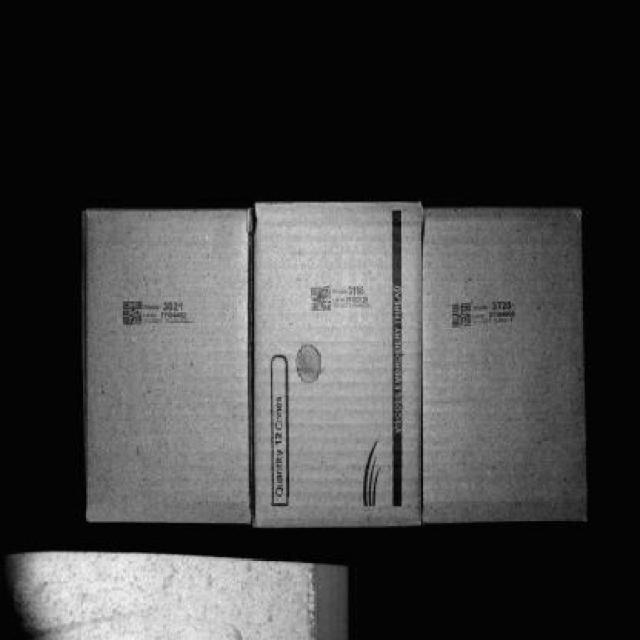cardboxes: (259, 202, 419, 522), (93, 206, 250, 523), (428, 208, 582, 517)
